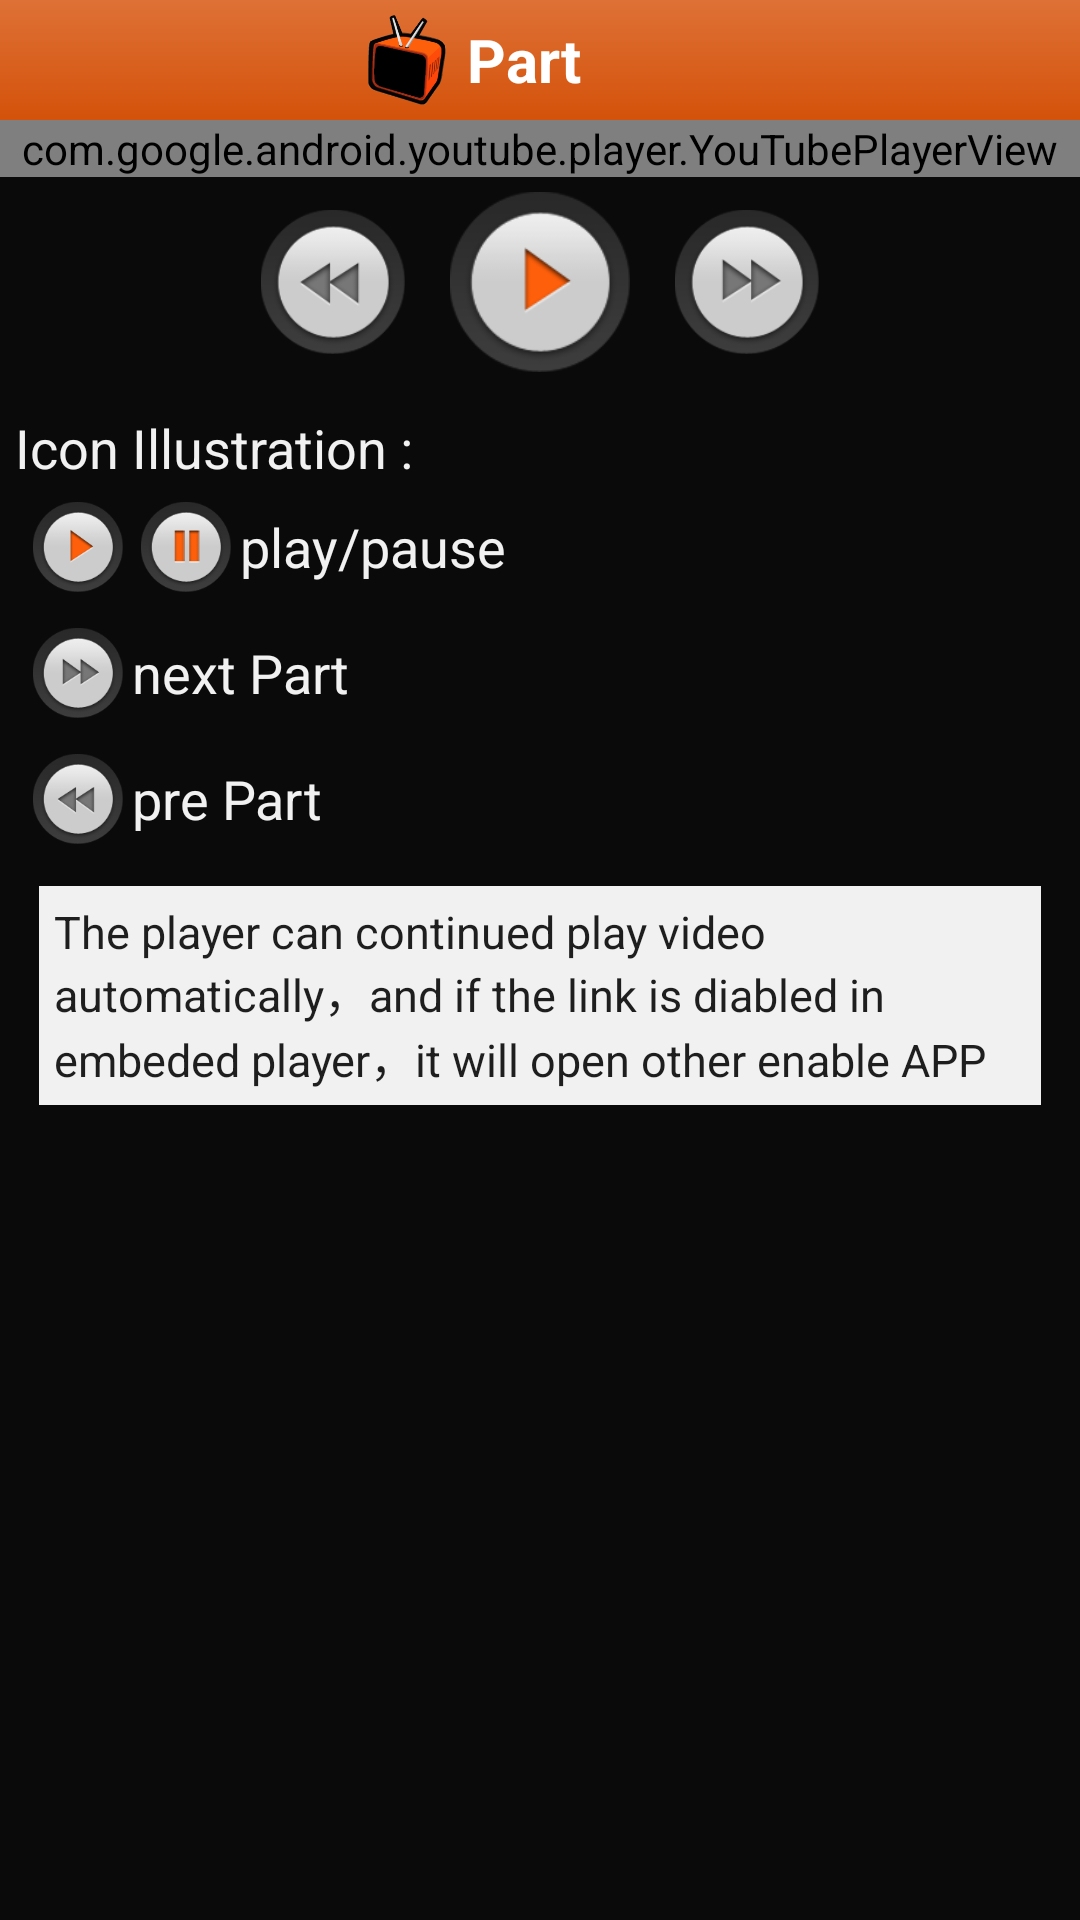

Point at icon controls on the screen. Image size 1080 x 1920, points as (x,y).
imagebutton play: (539,282), (78,547)
